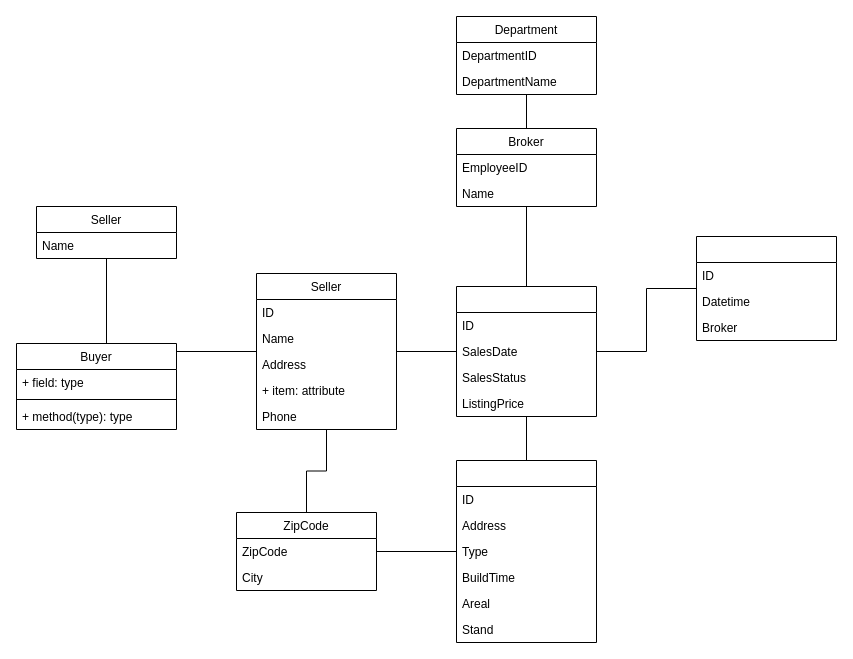
Image size: 853x659. Some labels were removed from this diagram. The box of each missing label's shape, as (x1, y1, x2, y2) in pixels:
Case: (456, 286, 596, 416)
House: (456, 460, 596, 642)
Openhouse: (696, 236, 836, 340)
